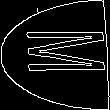M_E: (5, 32, 105, 78)
